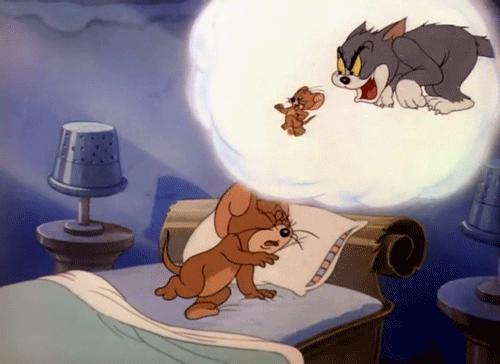jerry: (153, 181, 303, 321)
